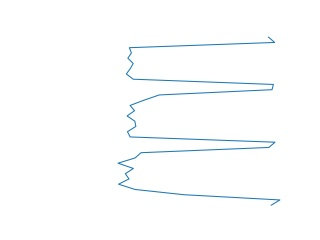majorRiverChannelBar: (115, 36, 285, 206)
